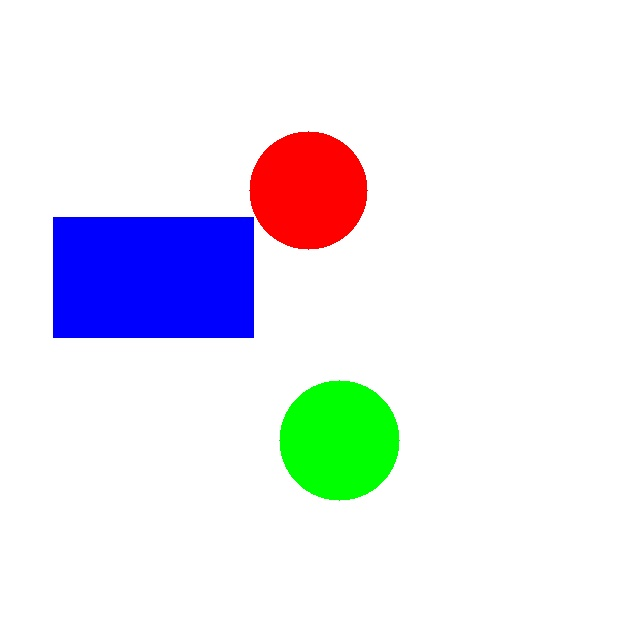cartao: (53, 217, 253, 337)
rosca_externa: (279, 380, 399, 500)
rosca_interna: (249, 131, 367, 249)
